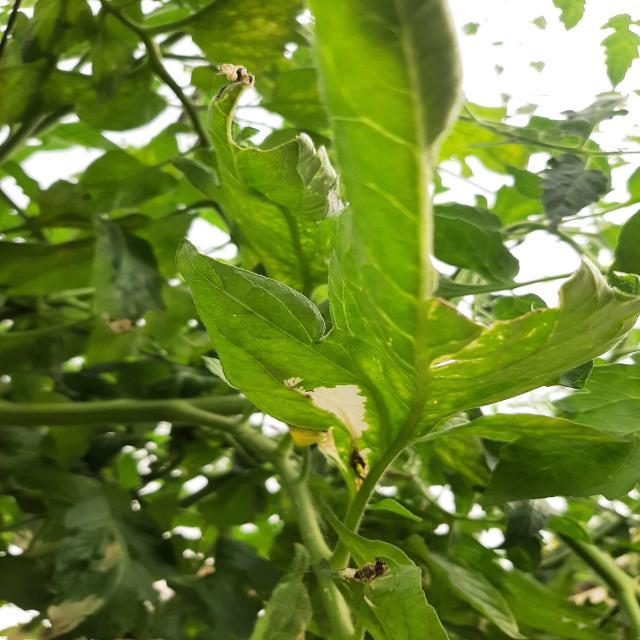Tuta absoluta: (295, 356, 385, 445)
